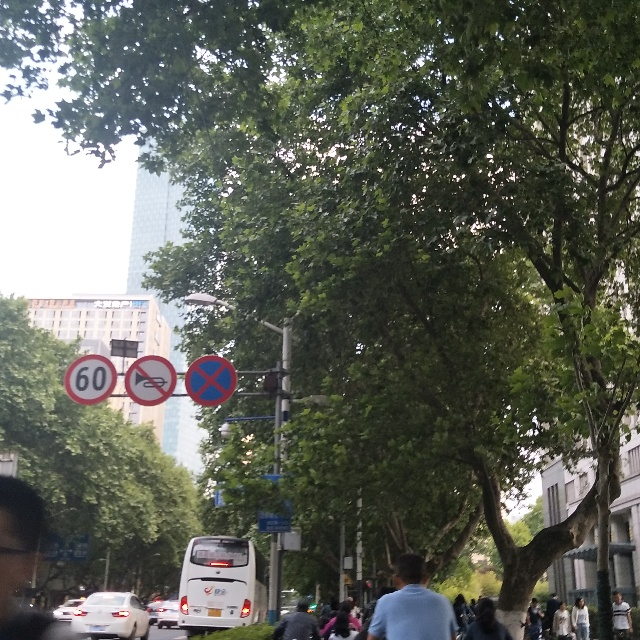nohonk: (123, 354, 178, 410)
stop: (184, 352, 239, 409)
